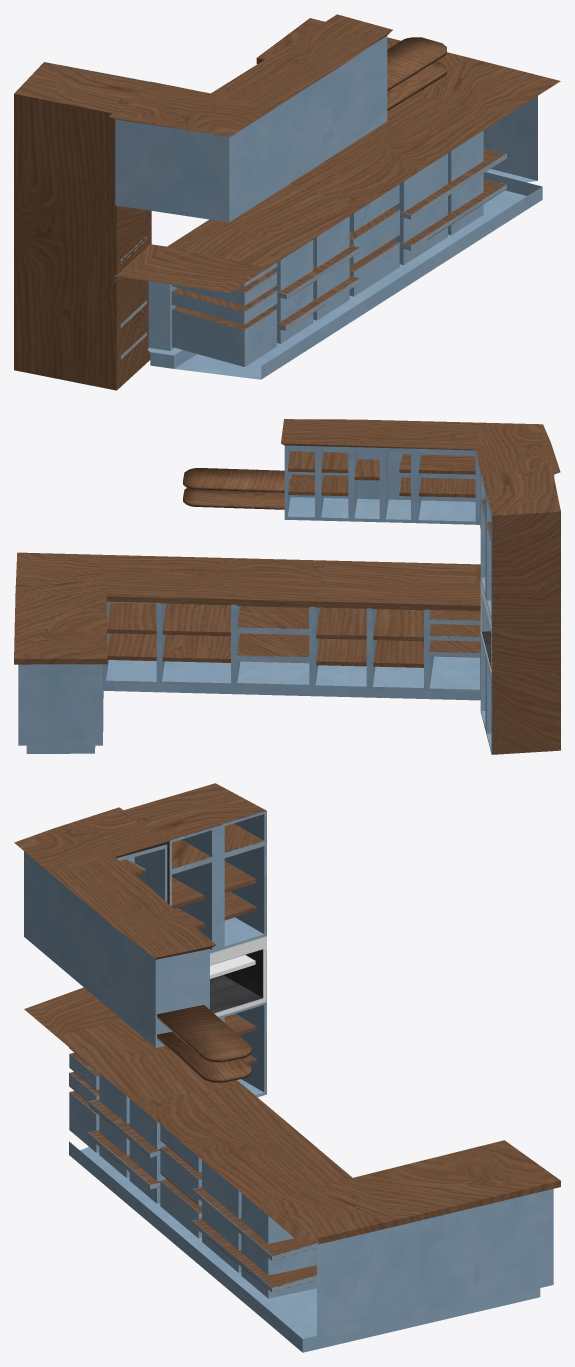
File: mesh_80_kitchen_2.glb
3 views of the same model, one above another, from view 1: azimuth 30°, elevation 25°; view 2: azimuth 150°, elevation 25°; view 3: azimuth 270°, elevation 25° (orthographic). The views are drawn at different scales.
Parts seen in each view (by area): view 1: mesh_80_kitchen_2; view 2: mesh_80_kitchen_2; view 3: mesh_80_kitchen_2.
Boxes of the visible parts, bbox=[...] form: mesh_80_kitchen_2: bbox=[14, 14, 560, 390]; mesh_80_kitchen_2: bbox=[14, 419, 560, 754]; mesh_80_kitchen_2: bbox=[14, 783, 560, 1352].
Size of the model in its own units: 5.4 by 2.43 by 4.24.
Materials: 1 (1 with a texture image).
